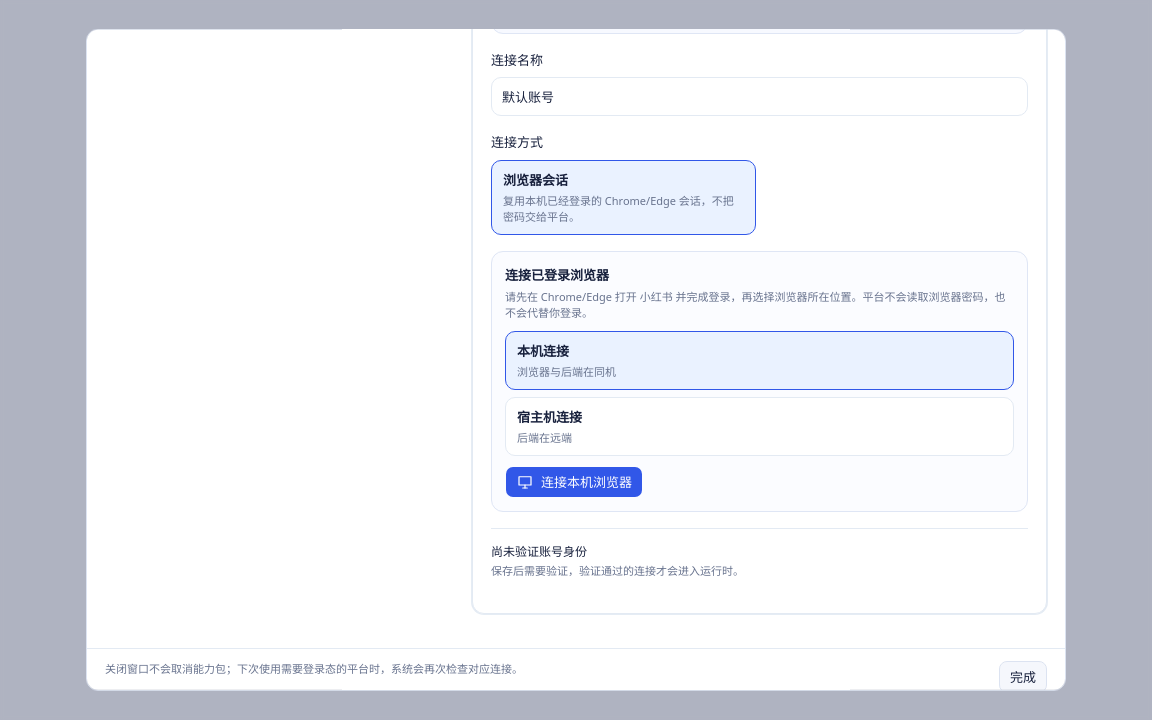
用户确认浏览器设备 › local_loopback 创建本人设备配对而不是借服务端浏览器
(page scrolled)
Click the radio button labelled "本机连接 浏览器与后端在同机". click: (543, 351)
box: x1=505 y1=331 x2=1014 y2=390
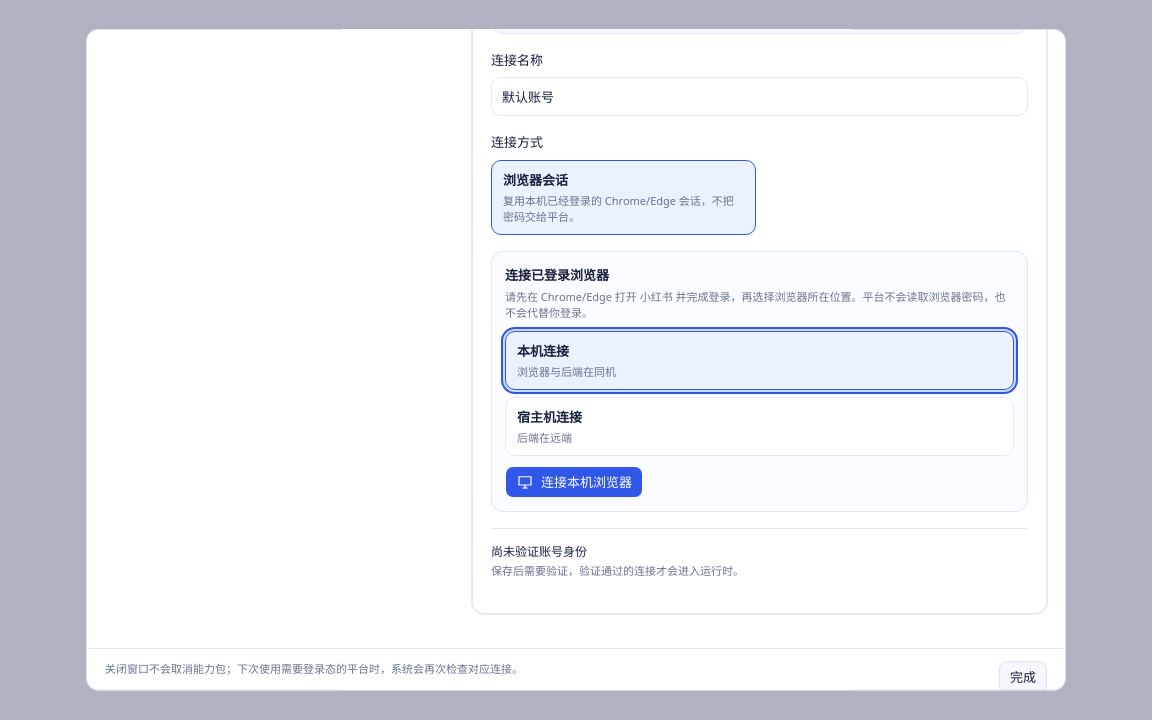
Click the button "连接本机浏览器". click: (574, 482)
box: x1=505 y1=466 x2=643 y2=498
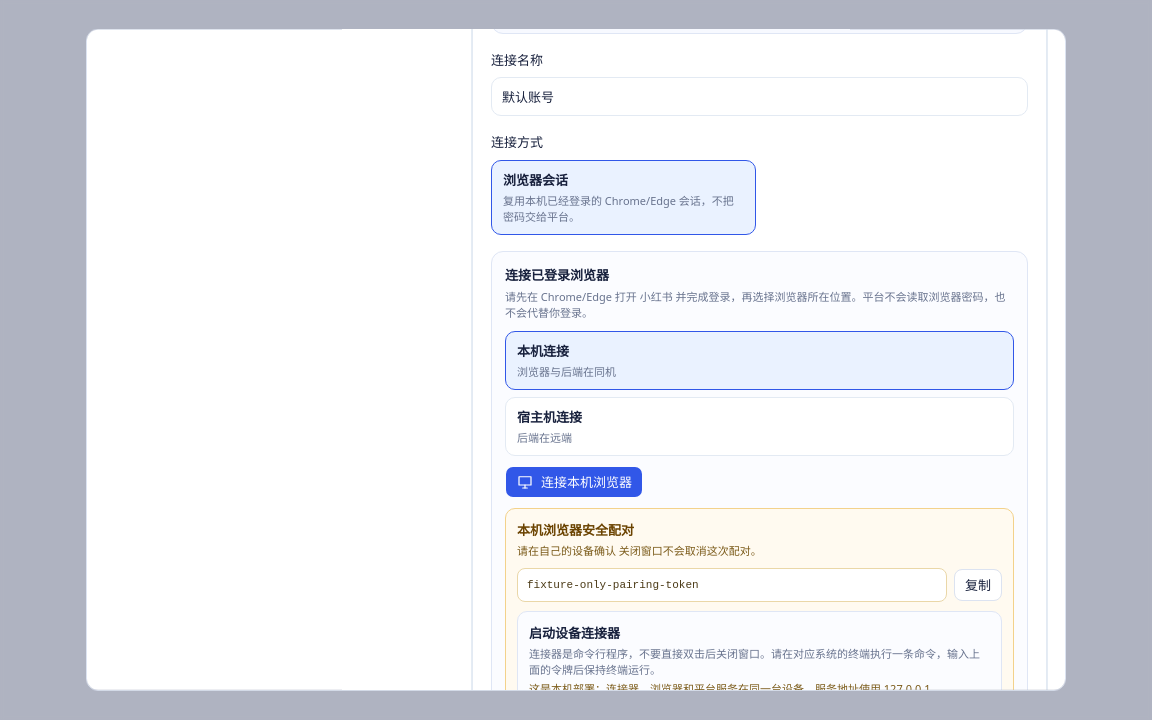
Expected: the text "fixture-only-pairing-token" is shown, x1=517 y1=568 x2=947 y2=602
Click the radio button labelled "宿主机连接 后端在远端". click: (549, 417)
box: x1=505 y1=397 x2=1014 y2=456
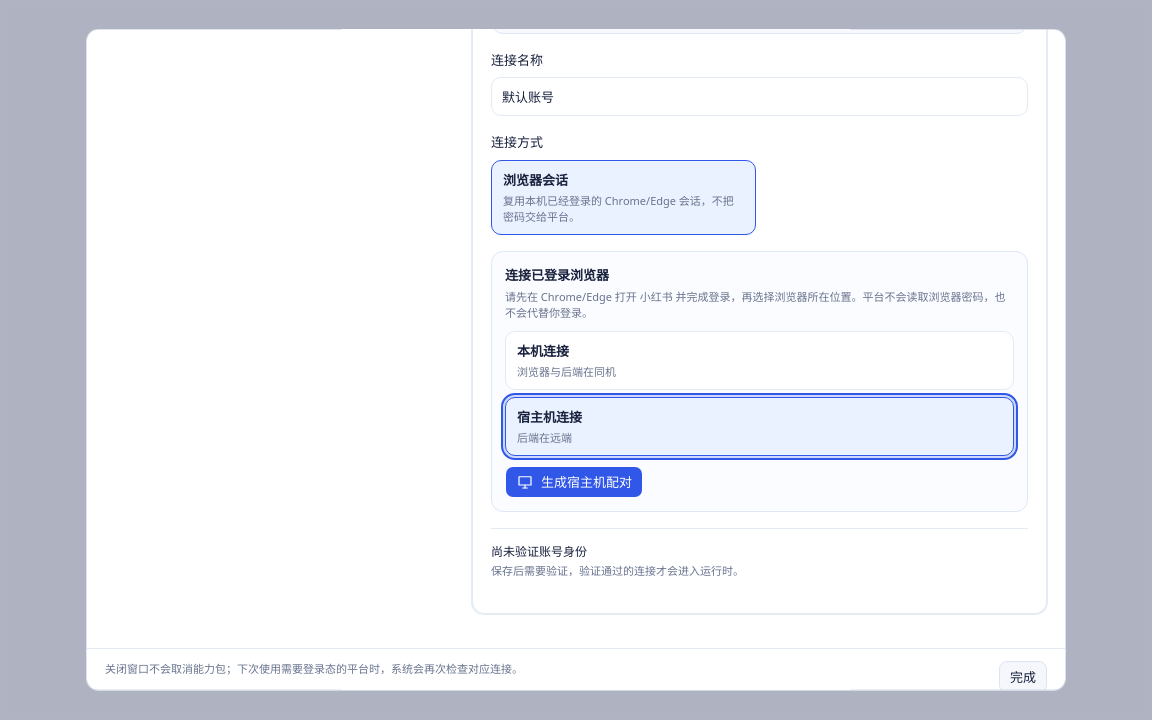
Expected: the text "fixture-only-pairing-token" is gone
